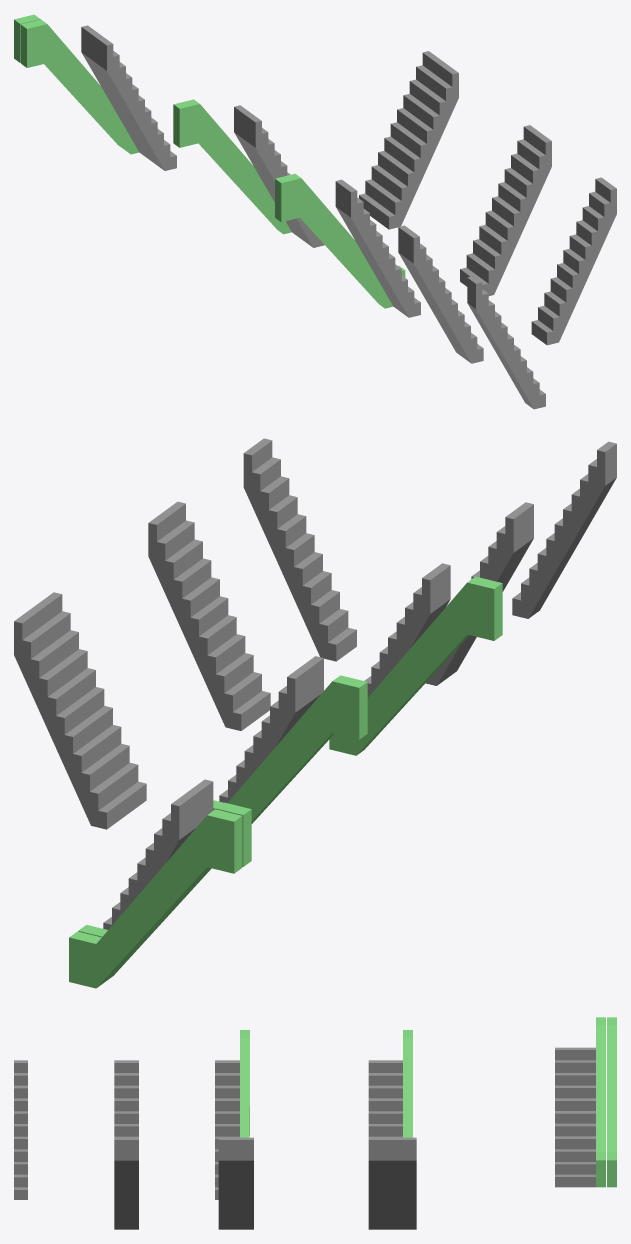
3 views of the same model, one above another, from view 1: azimuth 30°, elevation 25°; view 2: azimuth 150°, elevation 25°; view 3: azimuth 270°, elevation 25° (orthographic). The views are drawn at different scales.
Parts seen in each view (by area): view 1: 階段.023, 階段.022, 階段.020, 階段.025, エスカレーター.022, エスカレーター.024, エスカレーター.023, 階段.021, 階段.019, 階段.018, 階段.024, エスカレーター.025; view 2: 階段.023, 階段.022, 階段.020, エスカレーター.025, エスカレーター.022, エスカレーター.023, 階段.018, 階段.024, 階段.025, 階段.021, 階段.019, エスカレーター.024; view 3: 階段.025, 階段.023, 階段.022, 階段.024, 階段.020, 階段.021, 階段.018, 階段.019, エスカレーター.024, エスカレーター.025, エスカレーター.022, エスカレーター.023.
Boxes of the visible parts, x1,y1,x2,y2 form: 階段.023: [359, 51, 458, 229]; 階段.022: [460, 125, 551, 295]; 階段.020: [531, 177, 616, 345]; 階段.025: [81, 25, 176, 170]; エスカレーター.022: [275, 173, 405, 308]; エスカレーター.024: [21, 19, 139, 154]; エスカレーター.023: [173, 99, 291, 234]; 階段.021: [335, 179, 420, 317]; 階段.019: [398, 225, 483, 363]; 階段.018: [467, 276, 545, 409]; 階段.024: [234, 105, 324, 247]; エスカレーター.025: [14, 14, 123, 148]; 階段.023: [14, 592, 146, 829]; 階段.022: [148, 501, 270, 730]; 階段.020: [243, 438, 356, 661]; エスカレーター.025: [69, 809, 242, 988]; エスカレーター.022: [329, 576, 502, 755]; エスカレーター.023: [213, 675, 367, 823]; 階段.018: [512, 441, 616, 618]; 階段.024: [219, 656, 323, 802]; 階段.025: [103, 779, 213, 929]; 階段.021: [364, 563, 450, 697]; 階段.019: [425, 502, 533, 685]; エスカレーター.024: [78, 802, 251, 981]; 階段.025: [555, 1047, 595, 1187]; 階段.023: [368, 1137, 416, 1229]; 階段.022: [218, 1137, 253, 1229]; 階段.024: [368, 1060, 402, 1137]; 階段.020: [114, 1137, 138, 1229]; 階段.021: [215, 1060, 239, 1199]; 階段.018: [14, 1060, 27, 1199]; 階段.019: [114, 1060, 138, 1137]; エスカレーター.024: [596, 1017, 605, 1187]; エスカレーター.025: [607, 1017, 616, 1187]; エスカレーター.022: [240, 1030, 249, 1137]; エスカレーター.023: [403, 1030, 412, 1137].
Size of the model in its own units: 4569 by 2269 by 10225.
